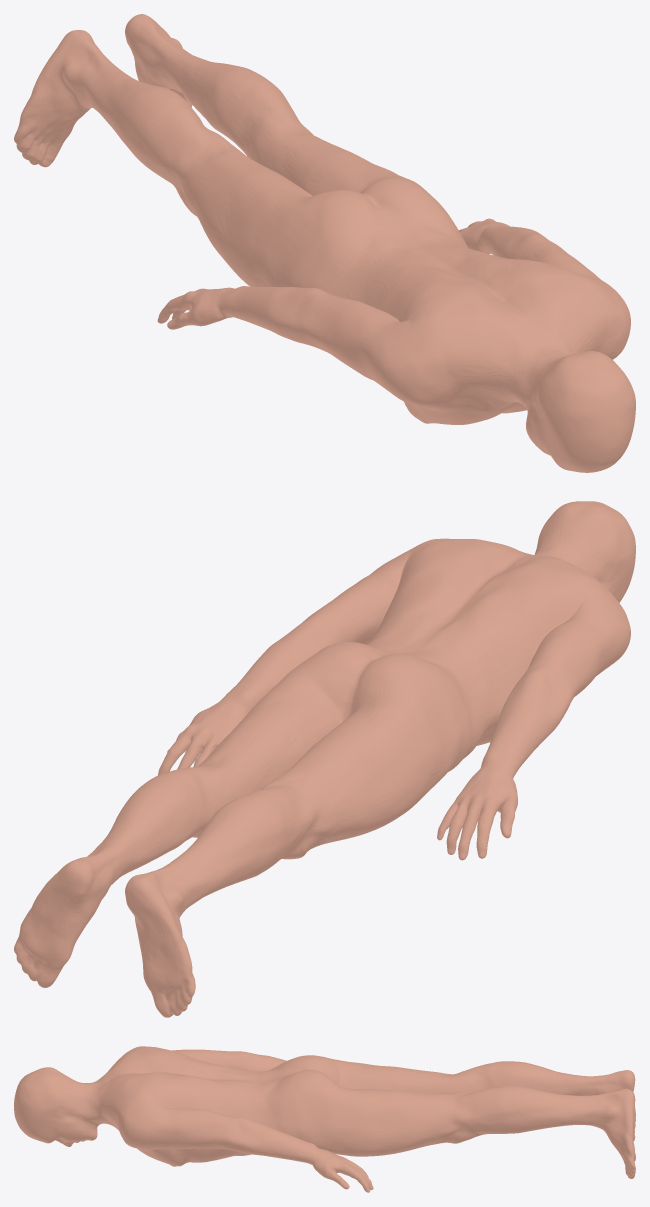
3 views of the same model, one above another, from view 1: azimuth 30°, elevation 25°; view 2: azimuth 150°, elevation 25°; view 3: azimuth 270°, elevation 25° (orthographic). The views are drawn at different scales.
Parts seen in each view (by area): view 1: 皮肤; view 2: 皮肤; view 3: 皮肤.
Part boxes in pixels (box(x1,y1,x2,y2)): 皮肤: box(14, 14, 635, 472); 皮肤: box(14, 501, 635, 1017); 皮肤: box(14, 1046, 635, 1192).
Size of the model in its own units: 0.3879 by 0.1698 by 1.
